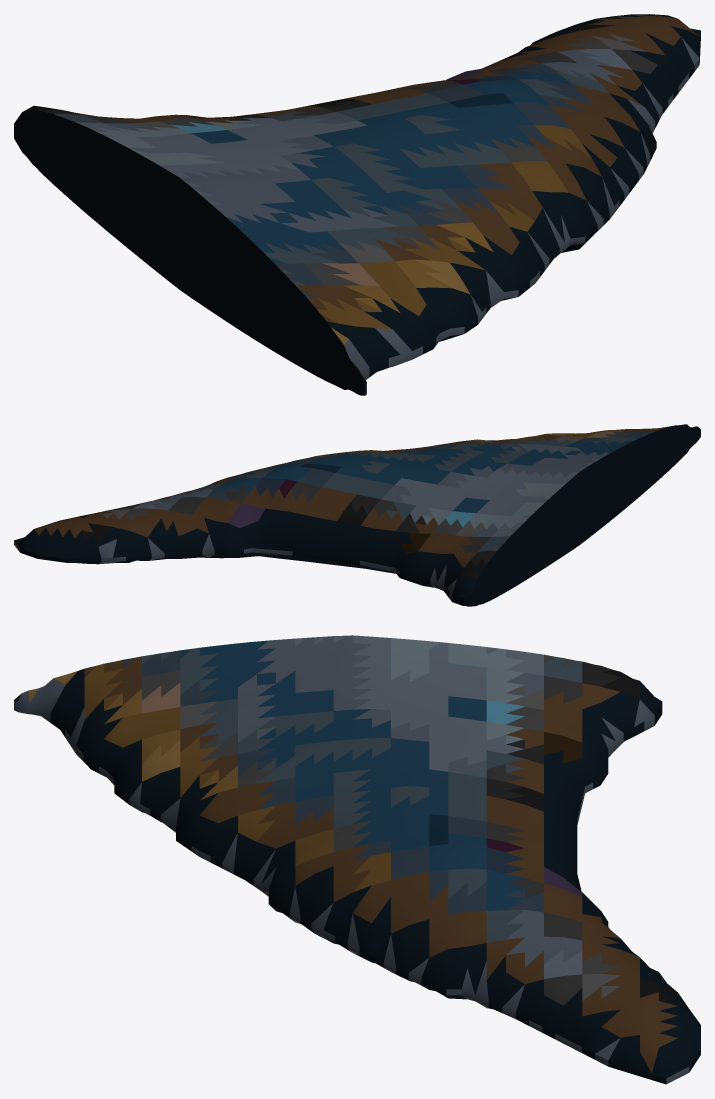
The model's file is coral_manta_wing_right.glb.
3 renders of one model, top to bottom at view 1: azimuth 30°, elevation 25°; view 2: azimuth 150°, elevation 25°; view 3: azimuth 270°, elevation 25°, orthographic. The views are drawn at different scales.
Parts seen in each view (by area): view 1: coral_manta_wing_right_body; view 2: coral_manta_wing_right_body; view 3: coral_manta_wing_right_body.
Boxes of the visible parts, box(x1,y1,x2,y2) form: coral_manta_wing_right_body: box(14, 14, 700, 395); coral_manta_wing_right_body: box(14, 424, 700, 606); coral_manta_wing_right_body: box(14, 635, 700, 1084).
Size of the model in its own units: 23.62 by 5.22 by 22.25.
